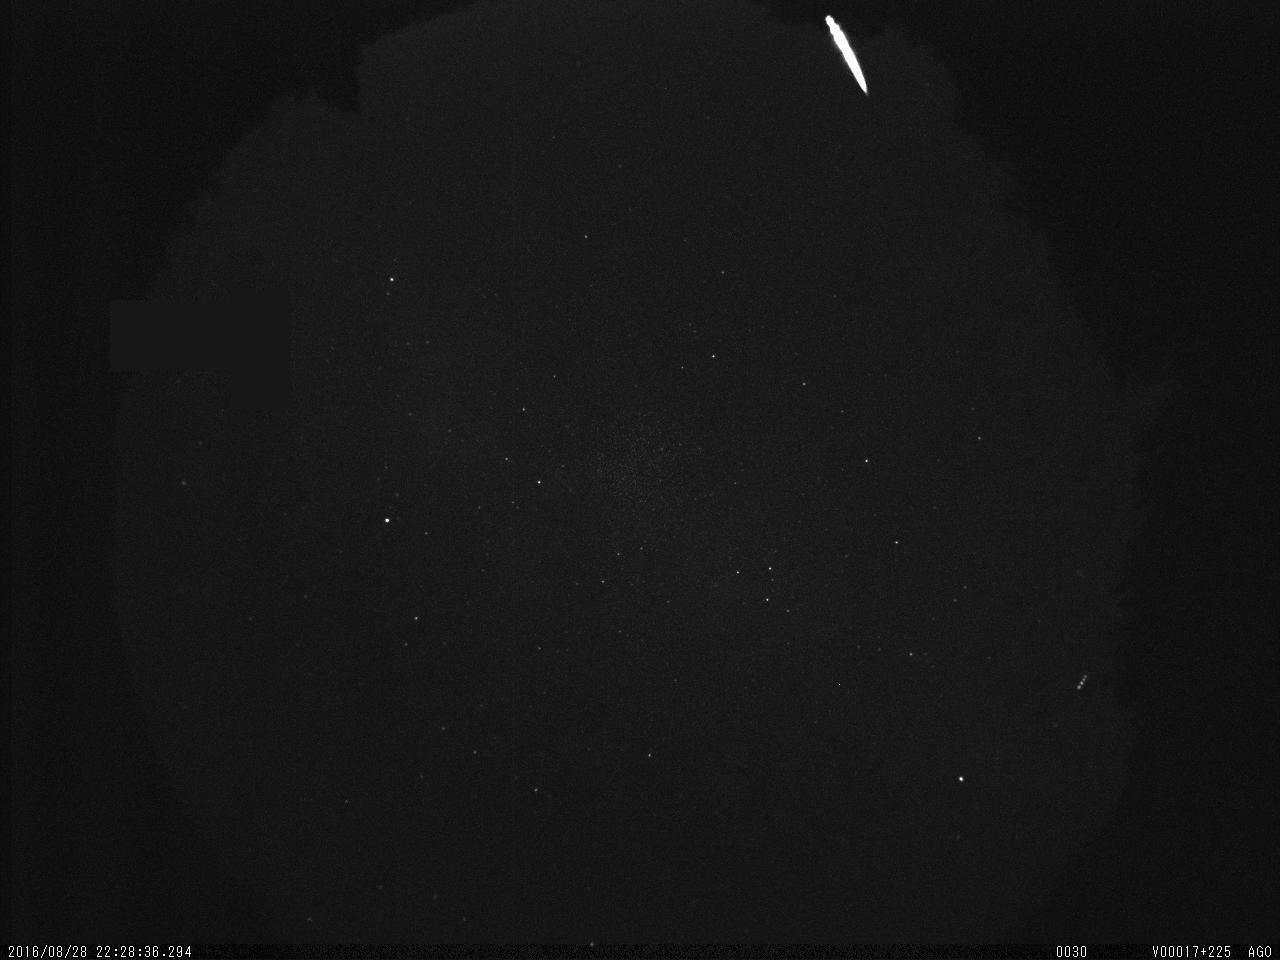Meteor: (823, 12, 870, 94)
